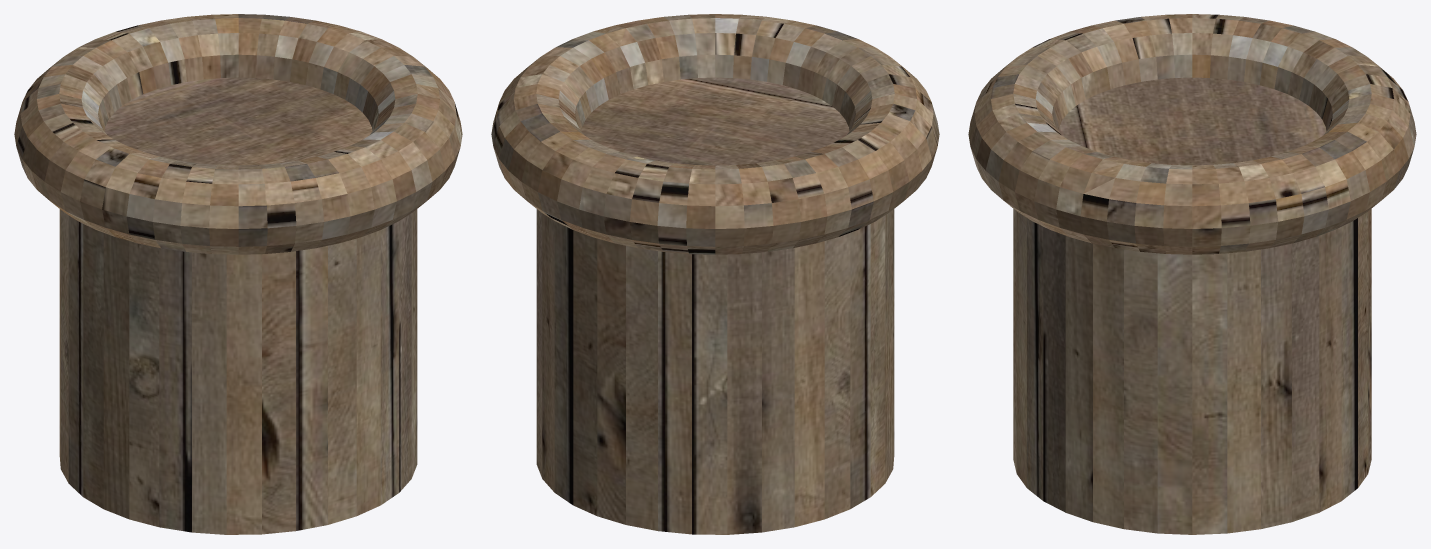
File: Tower.glb
The picture shows the model from 3 angles, left to right: view 1: azimuth 30°, elevation 25°; view 2: azimuth 150°, elevation 25°; view 3: azimuth 270°, elevation 25°; orthographic projection.
Visible parts, largest first — view 1: Node1, Node2; view 2: Node1, Node2; view 3: Node1, Node2.
Part boxes in pixels (x1,y1,x2,y2): Node1: (59, 77, 417, 534); Node2: (14, 14, 462, 254); Node1: (536, 77, 894, 534); Node2: (491, 14, 939, 254); Node1: (1013, 77, 1371, 534); Node2: (968, 14, 1416, 254).
Size of the model in its own units: 2.5 by 2.25 by 2.5.
Materials: 1 (1 with a texture image).
